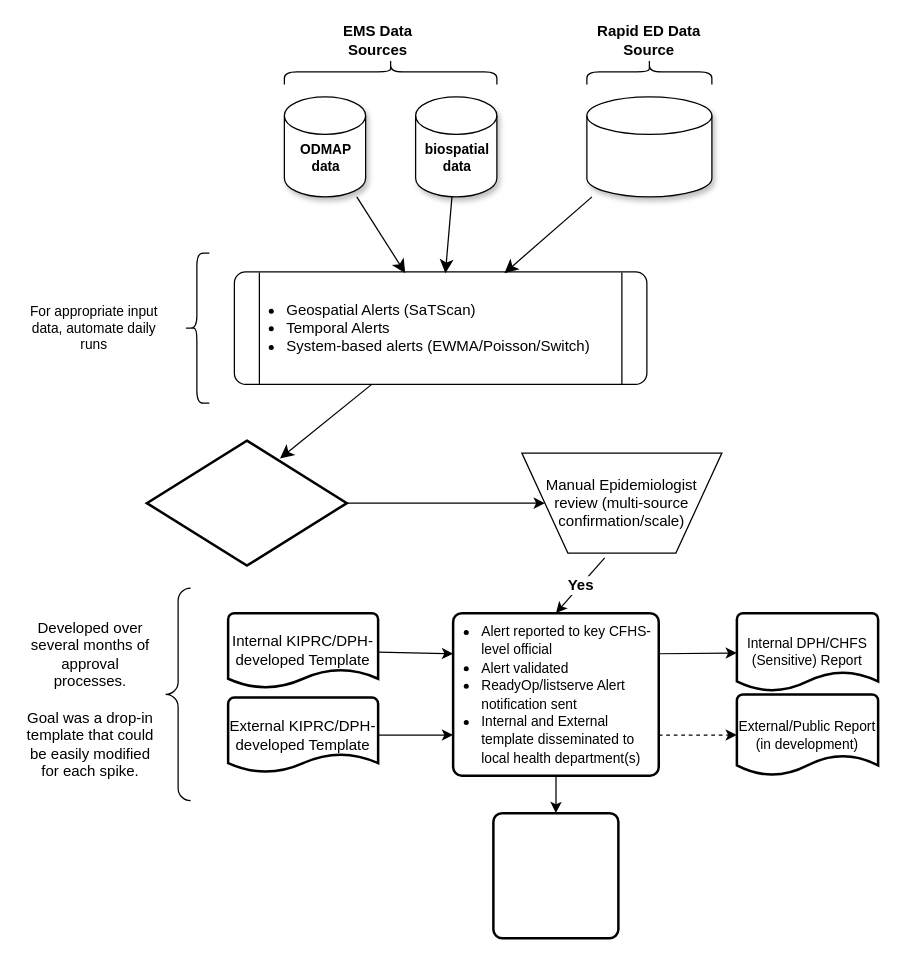
Image size: 900x960. Some labels were removed from this diagram. The centre of each missing label's shape, as x and y in pixels:
"Alert Generated" belongs at point 246,502.
"Follow up REDCap survey link disseminated to local health department(s)" belongs at point 555,875.
"Syndromic Surveillance data (ESSENCE)" belongs at point 650,148.
